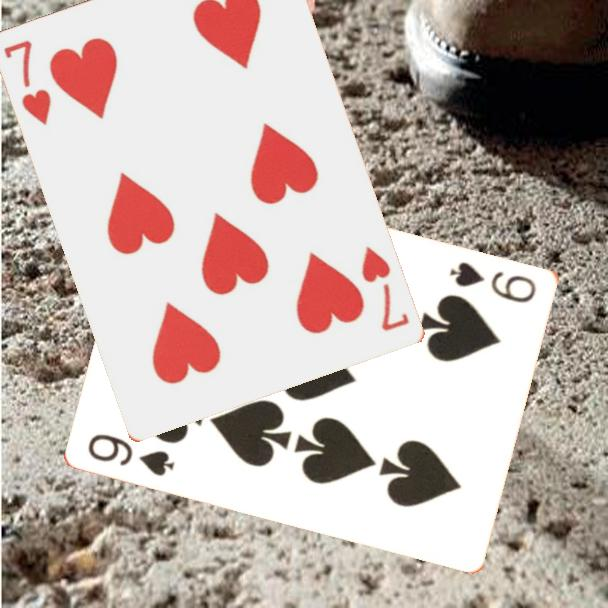h07: (358, 242, 413, 335), (1, 36, 55, 129)
s09: (85, 430, 178, 479), (446, 258, 540, 306)
